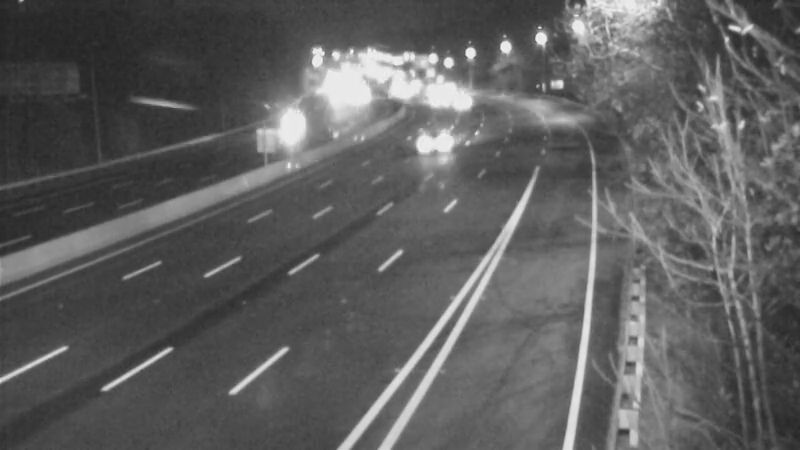vehicle: (435, 74, 485, 124), (410, 118, 460, 168), (270, 97, 320, 147)
